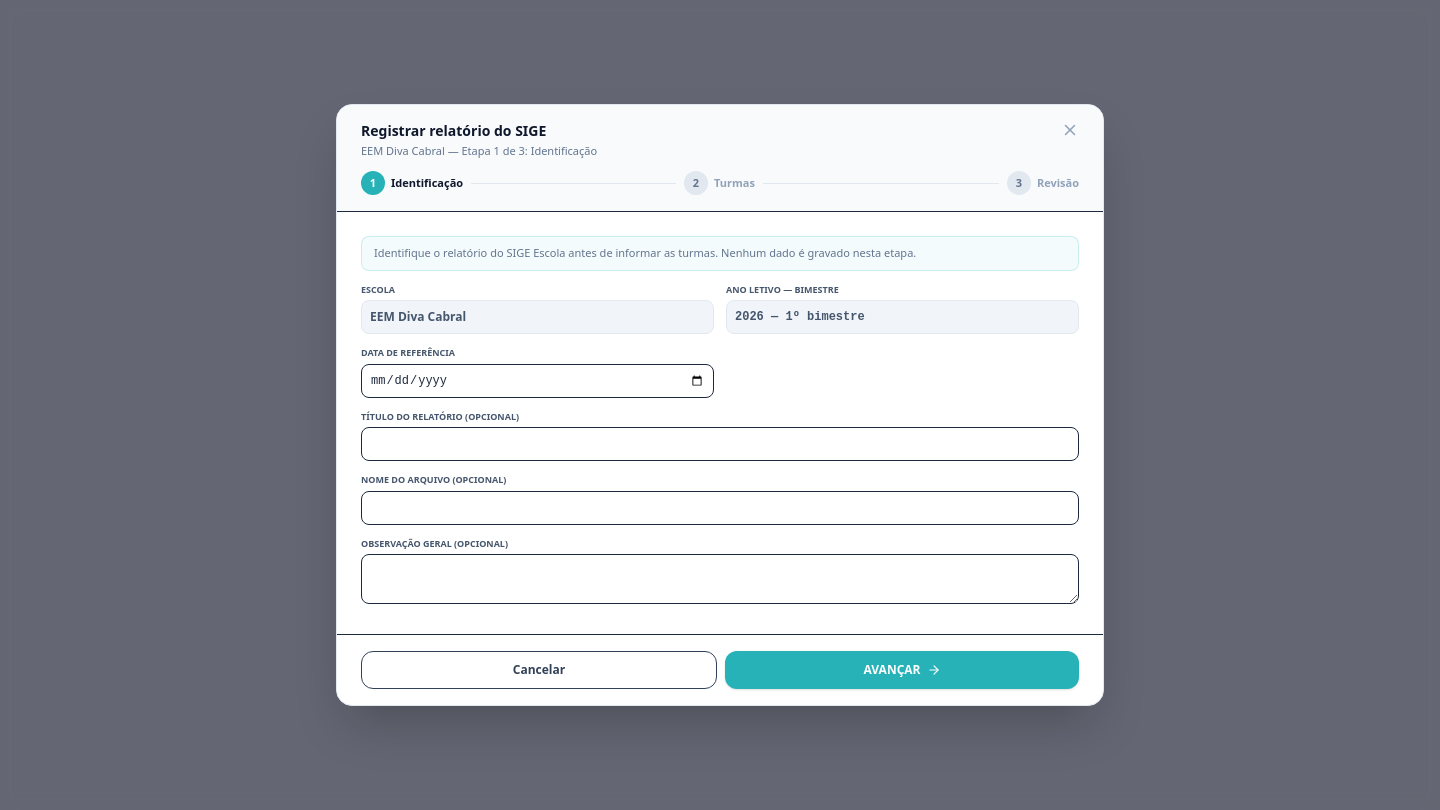
Test: SigeReportModal › "Voltar e corrigir" retorna à etapa anterior sem perder os dados já preenchidos
Type "2026-03-10" into the date field labelled "Data de referência" at point(538, 381), box [361,364,714,398]
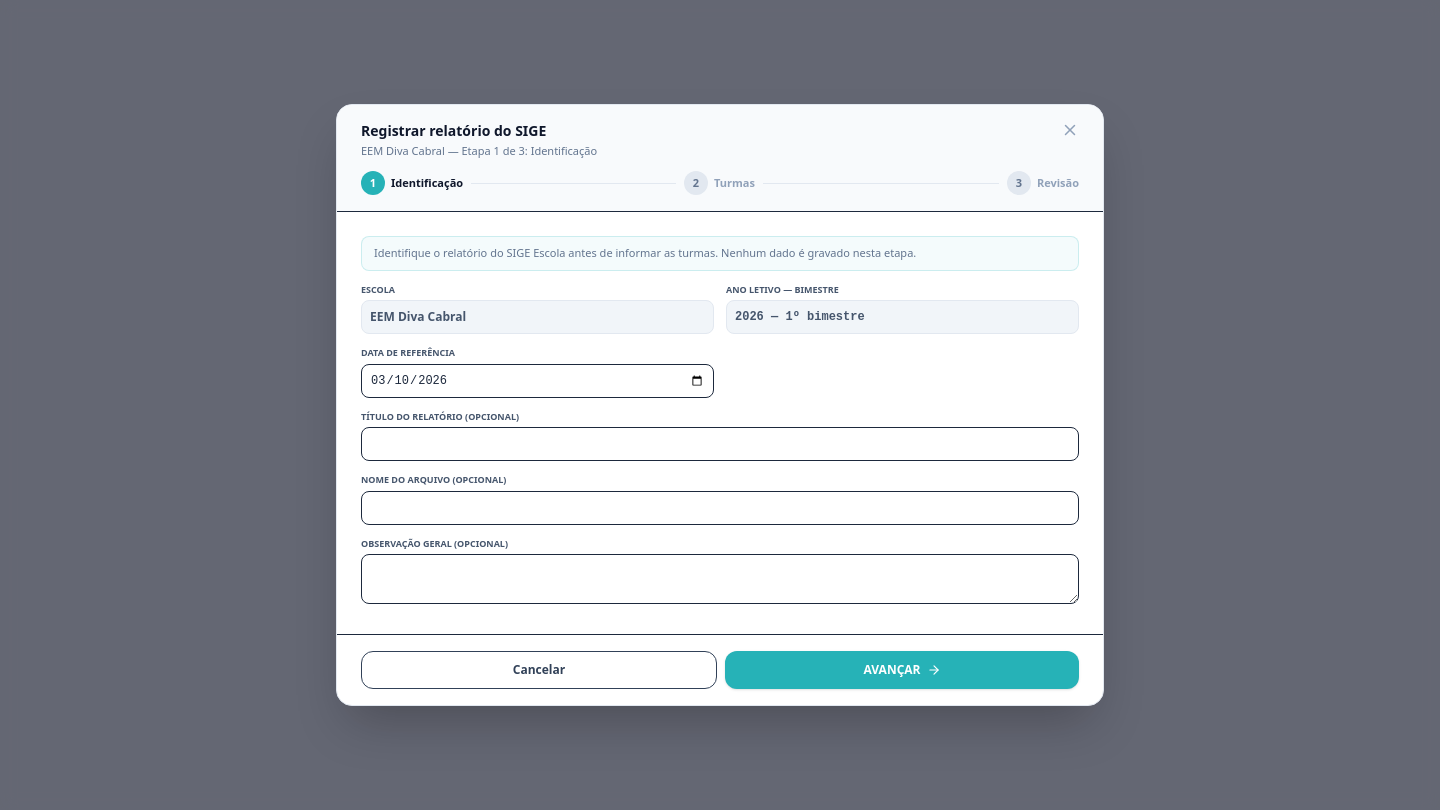
Click the button "Avançar" at point(902, 670), box [725,651,1079,689]
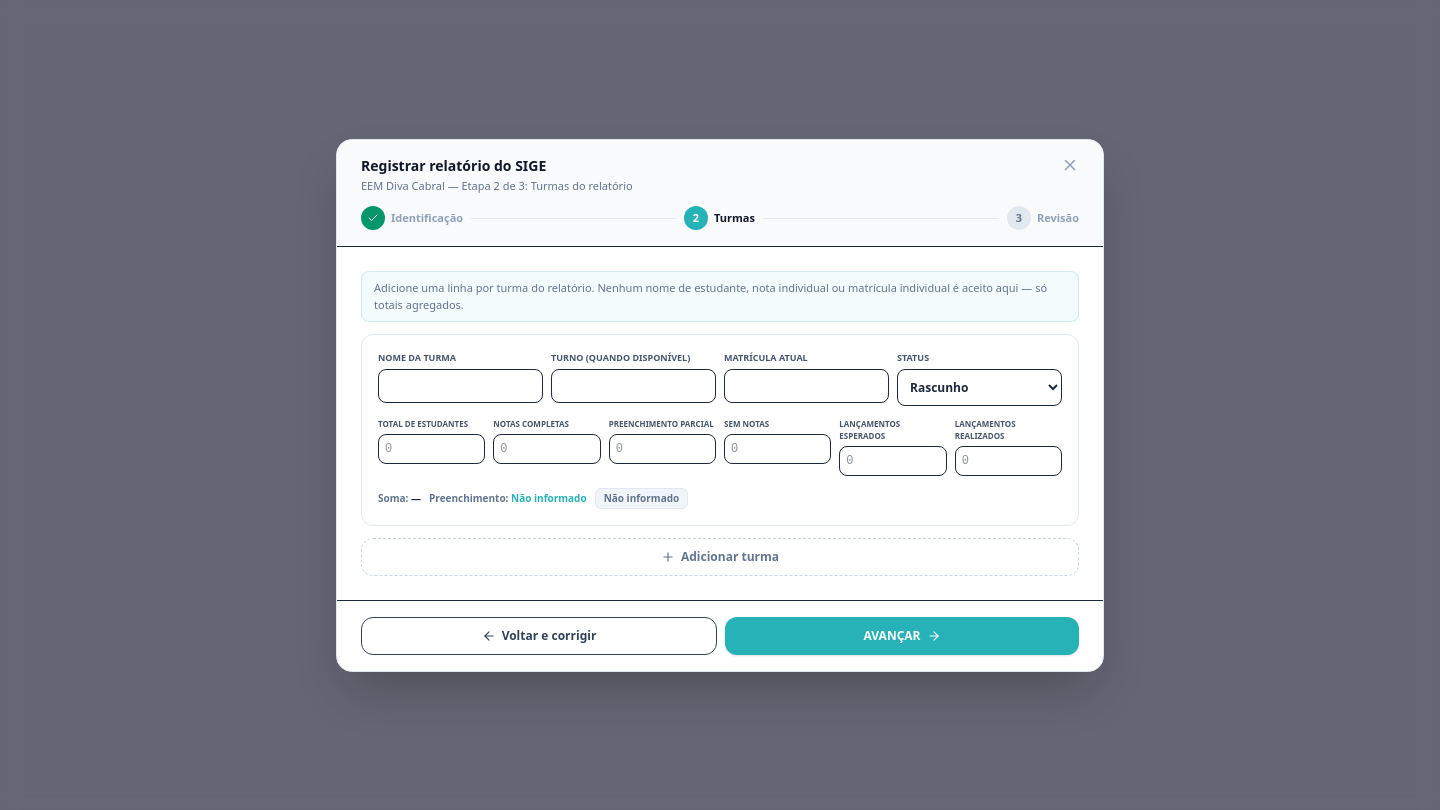
Click the button "Voltar e corrigir" at point(539, 636), box [361,616,717,654]
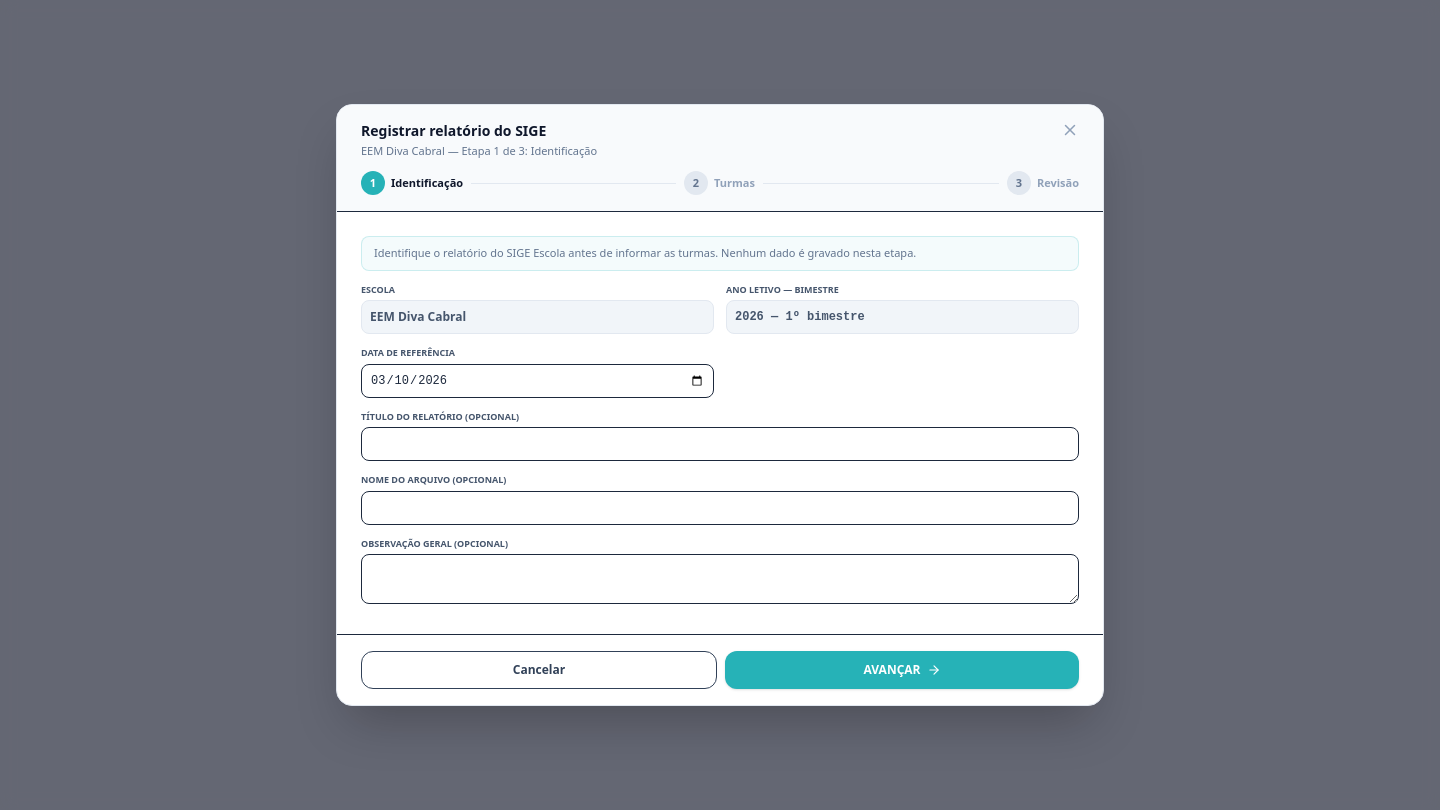
Expected: the text "EEM Diva Cabral — Etapa 1 de 3: Identificação" is shown, [361,143,597,159]
Expected: the date field labelled "Data de referência" holds "2026-03-10", [361,364,714,398]
